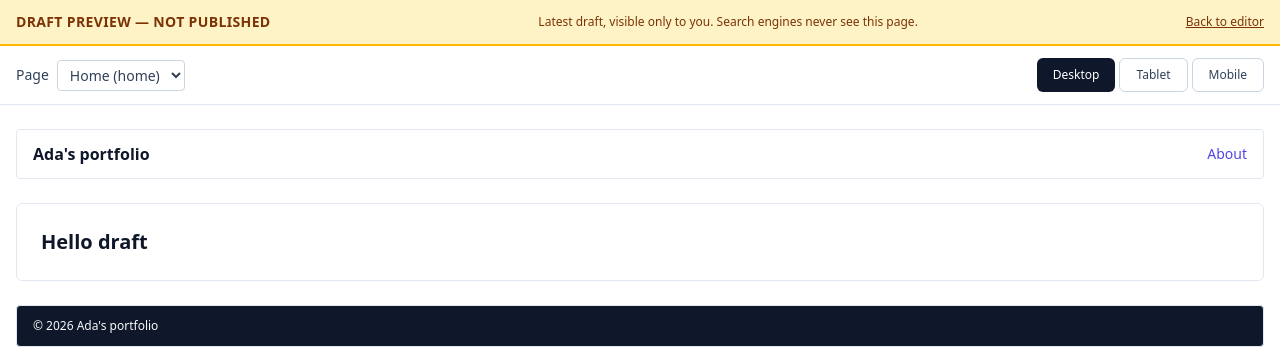
DraftPreview › switches pages from header navigation links
Expected: the heading "Hello draft" is shown, [41,228,148,255]
Click the button "About". click: click(1227, 154)
box: [1207,144,1247,164]
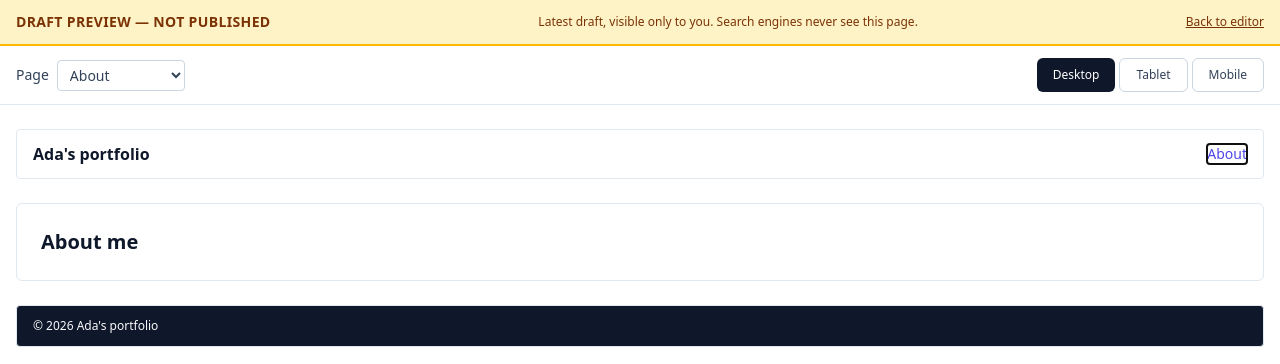
Expected: the heading "About me" is shown, [41,228,138,255]
